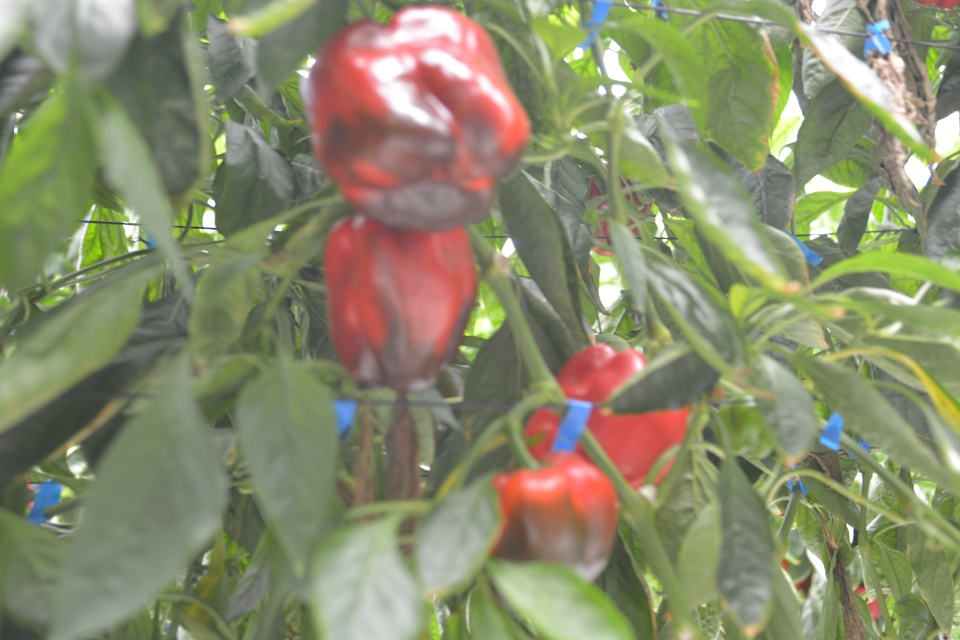fruit: (302, 3, 534, 233), (321, 212, 483, 393), (521, 340, 693, 492), (484, 451, 621, 586), (588, 162, 652, 255)
